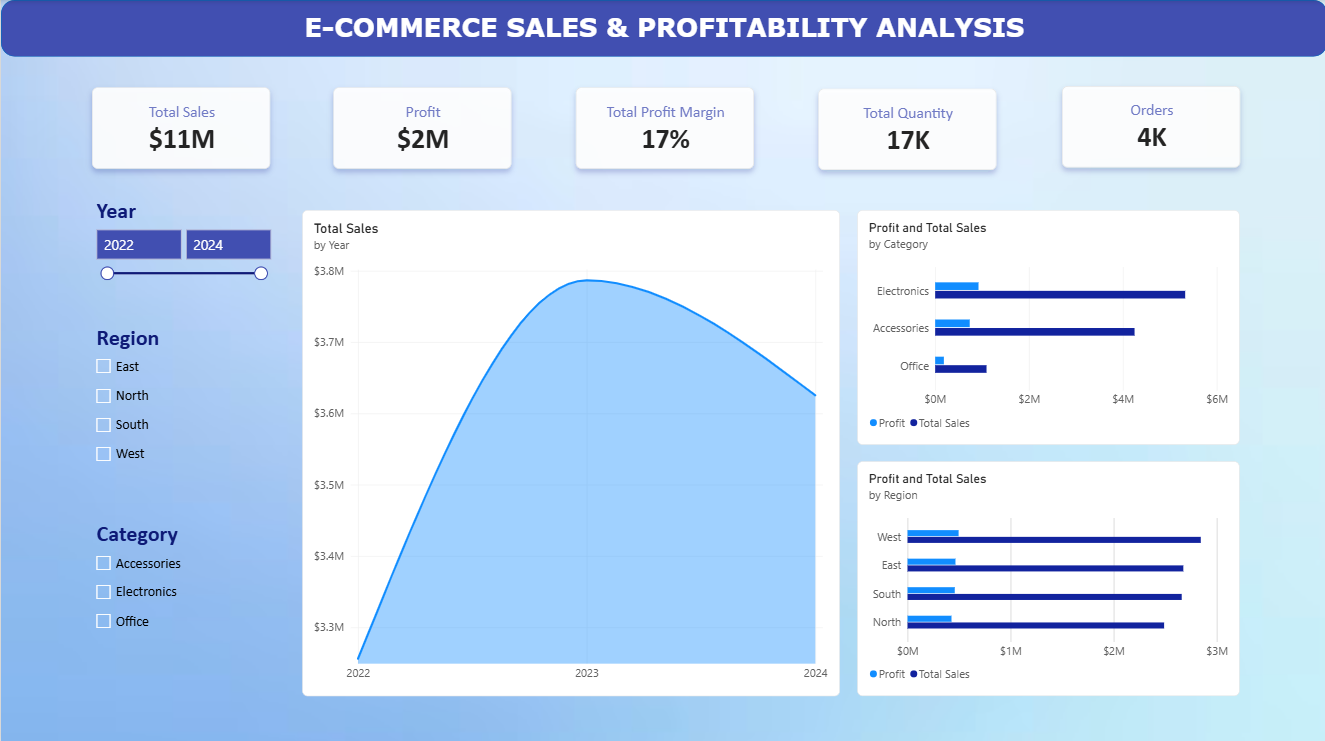

The page's visual inventory and layout, read from the dashboard file:
{"tool":"powerbi","page":{"name":"Executive Overview","canvas":[1920,1080],"ordinal":0},"visuals":[{"type":"shape","box":[0,0,1920,82],"z":0},{"type":"textbox","box":[0,17,1920,65],"z":1000},{"type":"cardVisual","fields":{"Data":["1  project ecommerce raw data.Total Sales"]},"box":[115.2,111.2,290,150],"z":2000},{"type":"cardVisual","fields":{"Data":["1  project ecommerce raw data.Total Profit"]},"box":[465.2,111.2,290,150],"z":3000},{"type":"cardVisual","fields":{"Data":["1  project ecommerce raw data.Total Profit Margin"]},"box":[815.6,110.8,290,150],"z":4000},{"type":"cardVisual","fields":{"Data":["1  project ecommerce raw data.Total Quantity"]},"box":[1168,112.4,290,150],"z":5000},{"type":"cardVisual","fields":{"Data":["1  project ecommerce raw data.Total Transactions"]},"box":[1520,108.4,290,150],"z":6000},{"type":"stackedAreaChart","fields":{"Category":["1  project ecommerce raw data.Order Date.Variation.Date Hierarchy.Year","1  project ecommerce raw data.Order Date.Variation.Date Hierarchy.Quarter","1  project ecommerce raw data.Order Date.Variation.Date Hierarchy.Month","1  project ecommerce raw data.Order Date.Variation.Date Hierarchy.Day"],"Y":["1  project ecommerce raw data.Total Sales"]},"box":[436,304,778,704],"z":7000},{"type":"clusteredBarChart","fields":{"Category":["1  project ecommerce raw data.Category"],"Y":["1  project ecommerce raw data.Profit","1  project ecommerce raw data.Total Sales"]},"box":[1240,303.8,553.8,340],"z":8000},{"type":"clusteredBarChart","fields":{"Category":["1  project ecommerce raw data.Region"],"Y":["1  project ecommerce raw data.Profit","1  project ecommerce raw data.Total Sales"]},"box":[1240,667.5,553.8,340],"z":9000},{"type":"slicer","fields":{"Values":["1  project ecommerce raw data.Year"]},"box":[130,286,262,292],"z":10000},{"type":"slicer","fields":{"Values":["1  project ecommerce raw data.Region"]},"box":[130,468,262,212],"z":11000},{"type":"slicer","fields":{"Values":["1  project ecommerce raw data.Category"]},"box":[130,752,262,174],"z":12000}]}

Visuals, with their boxes in screenshot pixels (x1, y1, x2, y2), scaled from the page's 1920x1080 canvas onto the 1325x741 screenshot:
shape: left=0, top=0, right=1324, bottom=56
textbox: left=0, top=12, right=1324, bottom=56
cardVisual - 1  project ecommerce raw data.Total Sales: left=80, top=76, right=280, bottom=179
cardVisual - 1  project ecommerce raw data.Total Profit: left=321, top=76, right=521, bottom=179
cardVisual - 1  project ecommerce raw data.Total Profit Margin: left=563, top=76, right=763, bottom=179
cardVisual - 1  project ecommerce raw data.Total Quantity: left=806, top=77, right=1006, bottom=180
cardVisual - 1  project ecommerce raw data.Total Transactions: left=1049, top=74, right=1249, bottom=177
stackedAreaChart - 1  project ecommerce raw data.Order Date.Variation.Date Hierarchy.Year x 1  project ecommerce raw data.Order Date.Variation.Date Hierarchy.Quarter: left=301, top=209, right=838, bottom=692
clusteredBarChart - 1  project ecommerce raw data.Category x 1  project ecommerce raw data.Profit: left=856, top=208, right=1238, bottom=442
clusteredBarChart - 1  project ecommerce raw data.Region x 1  project ecommerce raw data.Profit: left=856, top=458, right=1238, bottom=691
slicer - 1  project ecommerce raw data.Year: left=90, top=196, right=271, bottom=397
slicer - 1  project ecommerce raw data.Region: left=90, top=321, right=271, bottom=467
slicer - 1  project ecommerce raw data.Category: left=90, top=516, right=271, bottom=635
